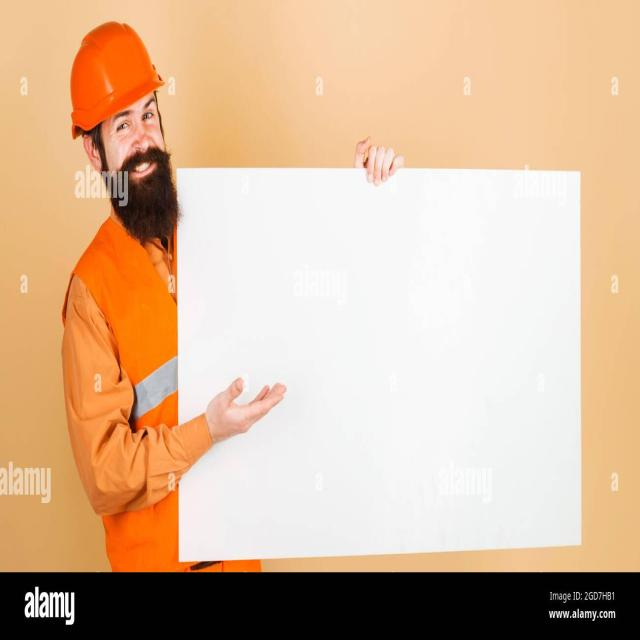helmet: (68, 19, 168, 141)
no-goggles: (97, 103, 169, 139)
vest: (77, 222, 176, 542)
